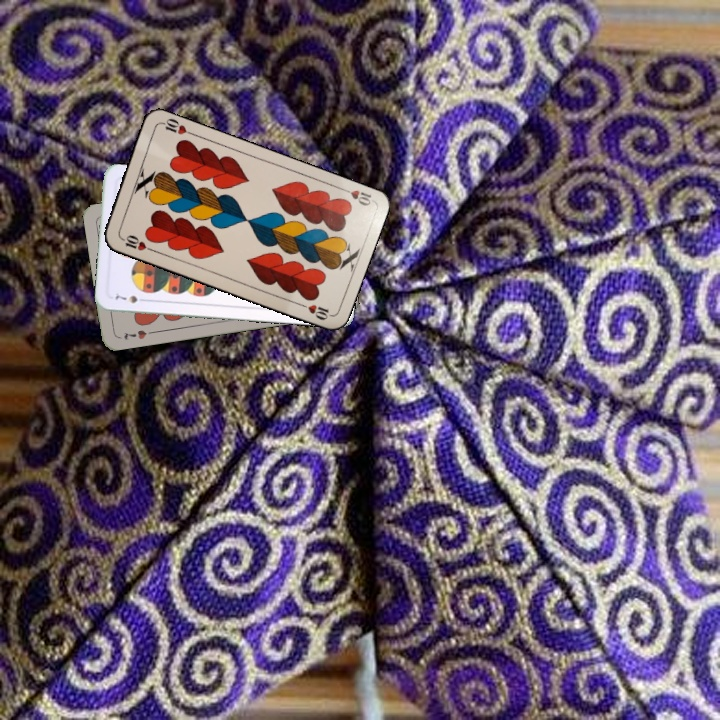H10: (336, 183, 375, 209), (116, 231, 155, 254)
H7: (120, 326, 156, 342)
S7: (109, 291, 150, 306)
